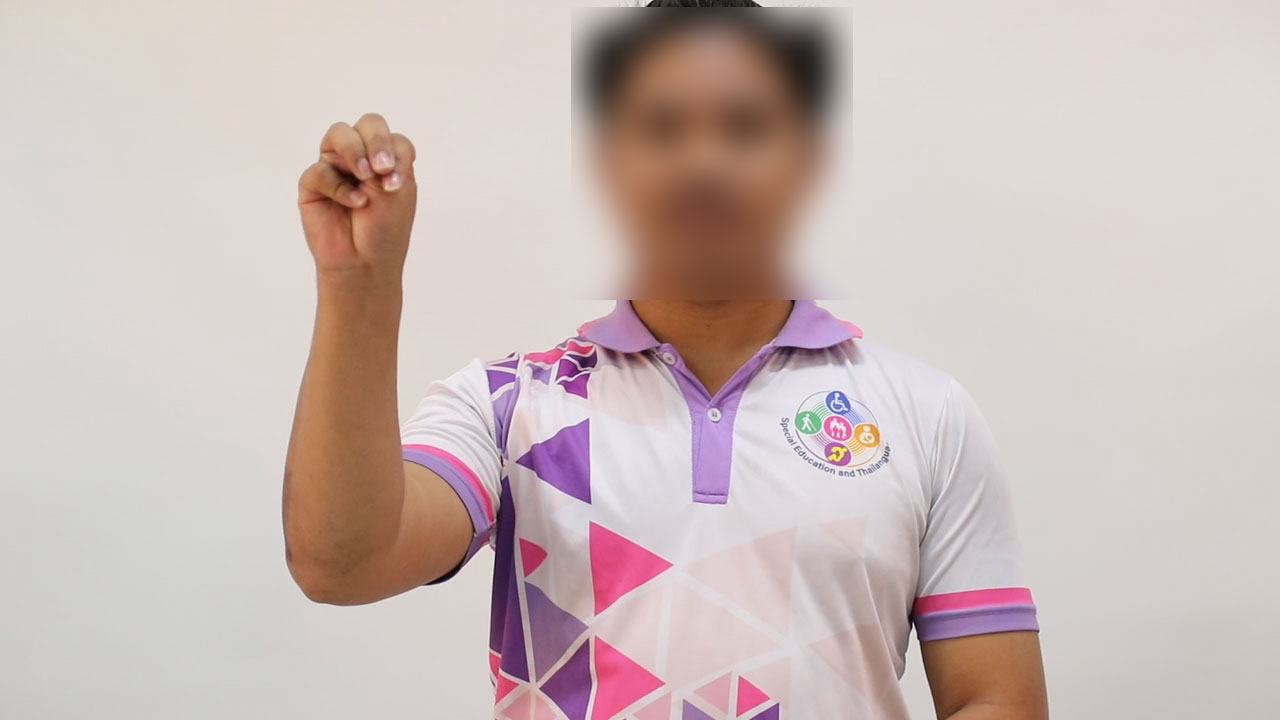mor: (269, 99, 451, 317)
